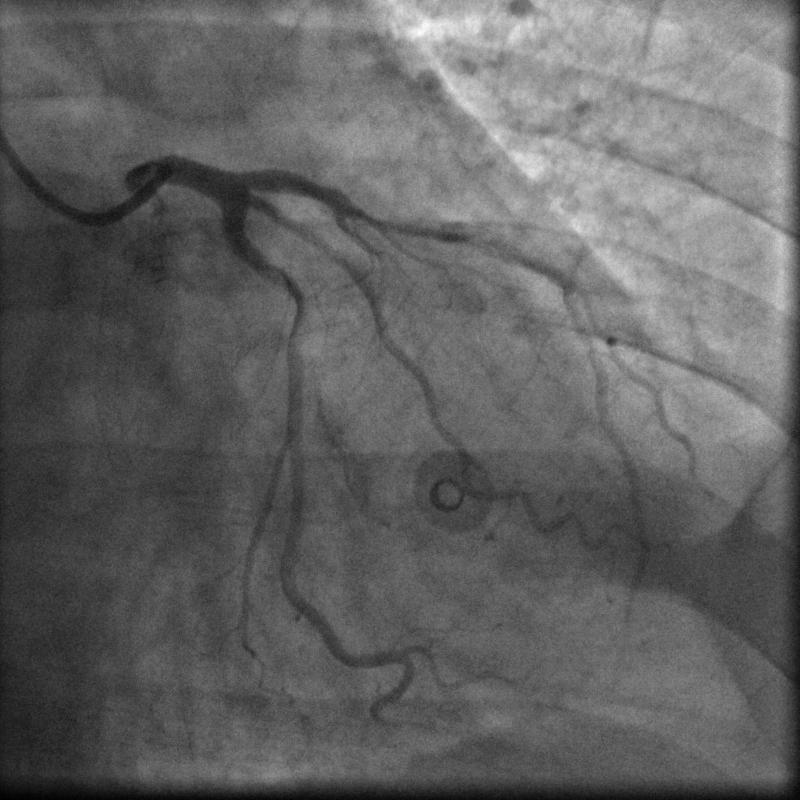Stenosis: (358, 205, 449, 248)
